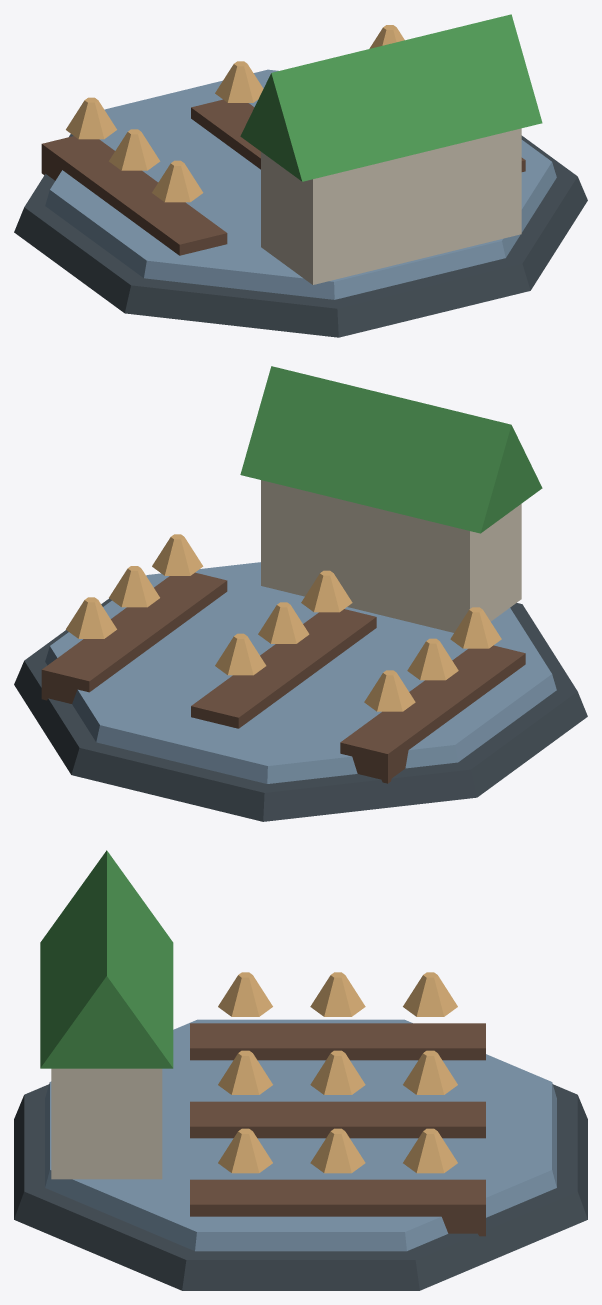
Rendered from Farm_1.fbx.
The picture shows the model from 3 angles, top to bottom: view 1: azimuth 30°, elevation 25°; view 2: azimuth 150°, elevation 25°; view 3: azimuth 270°, elevation 25°; orthographic projection. The views are drawn at different scales.
Parts seen in each view (by area): view 1: Farm_1; view 2: Farm_1; view 3: Farm_1.
Boxes of the visible parts, x1,y1,x2,y2 form: Farm_1: [14, 14, 587, 337]; Farm_1: [14, 366, 587, 821]; Farm_1: [14, 850, 587, 1290].
Size of the model in its own units: 2.9 by 1.43 by 2.9.
